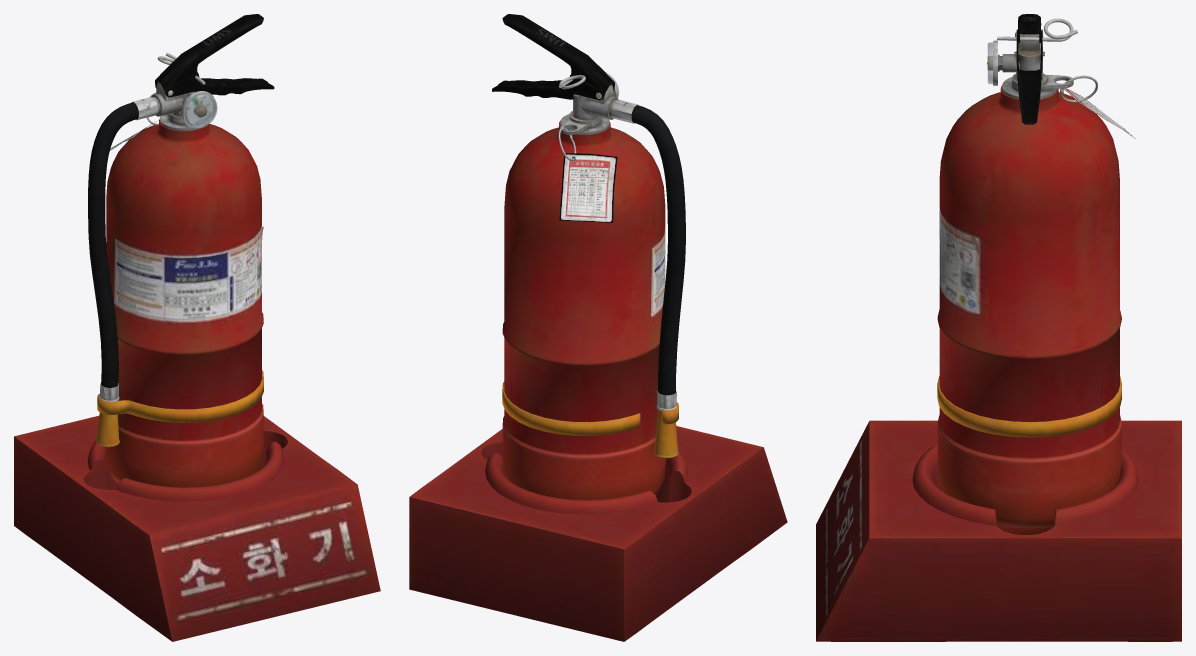
The model's file is korean_fire_extinguisher_01.glb.
3 renders of one model, left to right at view 1: azimuth 30°, elevation 25°; view 2: azimuth 150°, elevation 25°; view 3: azimuth 270°, elevation 25°, orthographic. The views are drawn at different scales.
Parts seen in each view (by area): view 1: korean_fire_extinguisher_01; view 2: korean_fire_extinguisher_01; view 3: korean_fire_extinguisher_01.
Part boxes in pixels (<box>): korean_fire_extinguisher_01: <box>14,14,380,641</box>; korean_fire_extinguisher_01: <box>409,14,787,641</box>; korean_fire_extinguisher_01: <box>816,14,1181,641</box>.
Bounding box in the file's own units: 0.2799 × 0.6593 × 0.3674.
Materials: 3 (3 with a texture image).
